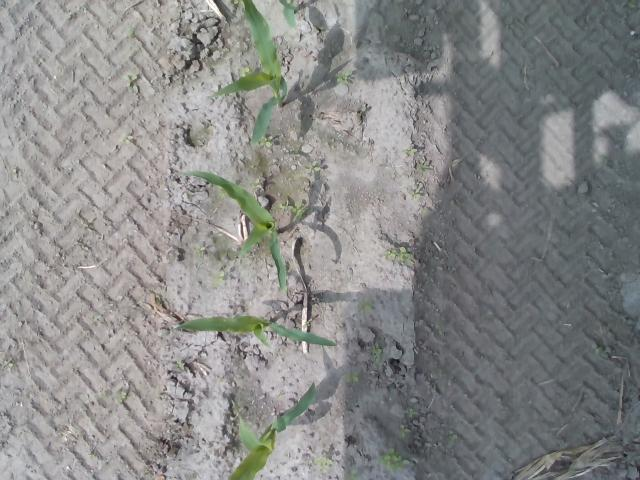Maize: (179, 168, 289, 290), (210, 0, 288, 146), (225, 380, 317, 480), (173, 316, 336, 350)
Weeds: (377, 446, 411, 472), (280, 200, 310, 222), (122, 73, 140, 96), (386, 246, 410, 262), (370, 344, 381, 376), (112, 388, 129, 404), (337, 68, 352, 83), (248, 177, 262, 192), (212, 272, 225, 287), (404, 147, 418, 160), (306, 160, 321, 172), (316, 458, 334, 468), (345, 372, 360, 383), (176, 359, 188, 372), (399, 424, 409, 438), (193, 241, 205, 252), (260, 136, 273, 146), (3, 360, 14, 371), (361, 303, 374, 311), (408, 408, 418, 418), (410, 191, 421, 200), (239, 68, 251, 76)
